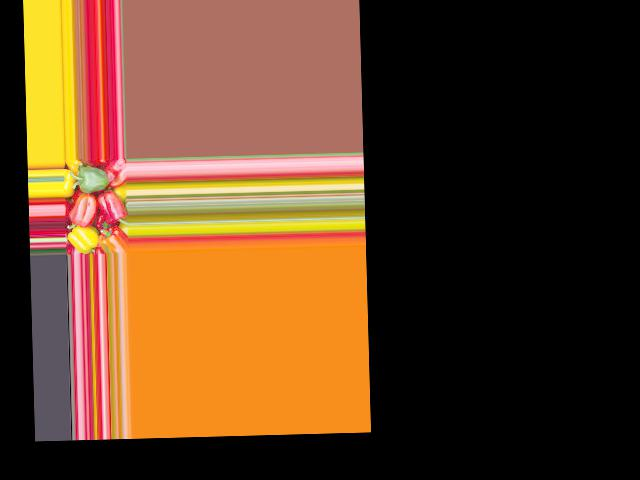bell_pepper: (66, 224, 101, 254)
